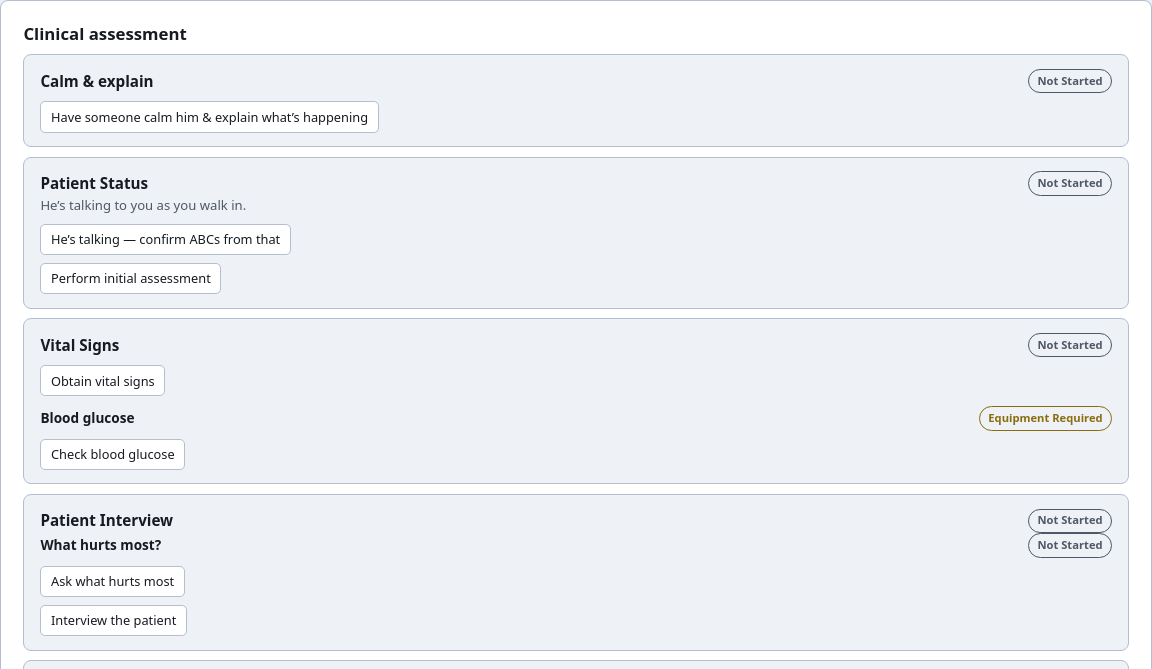
Scenario: ClinicalPanel — lock & hidden findings (§19) › keeps vital signs hidden until the task completes, then reveals them
Expected: the text "148/88" is not shown
Click the button "Obtain vital signs".
click(103, 381)  # box x1=40 y1=365 x2=165 y2=396
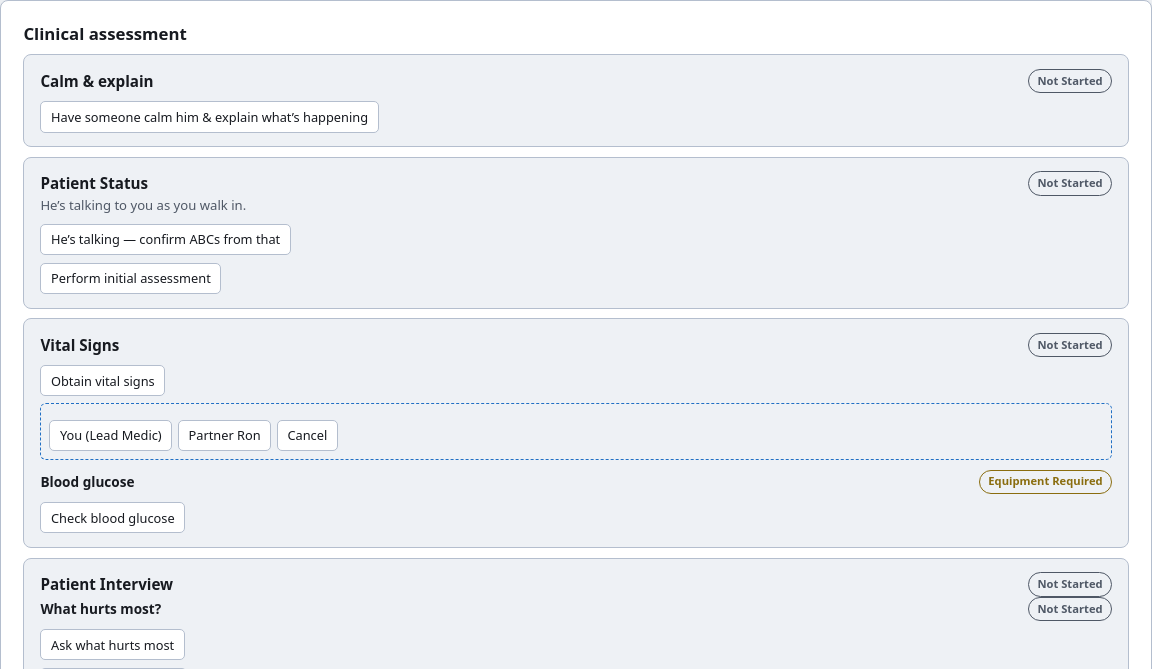
Click the button "Partner Ron".
click(225, 435)  # box x1=178 y1=420 x2=271 y2=451
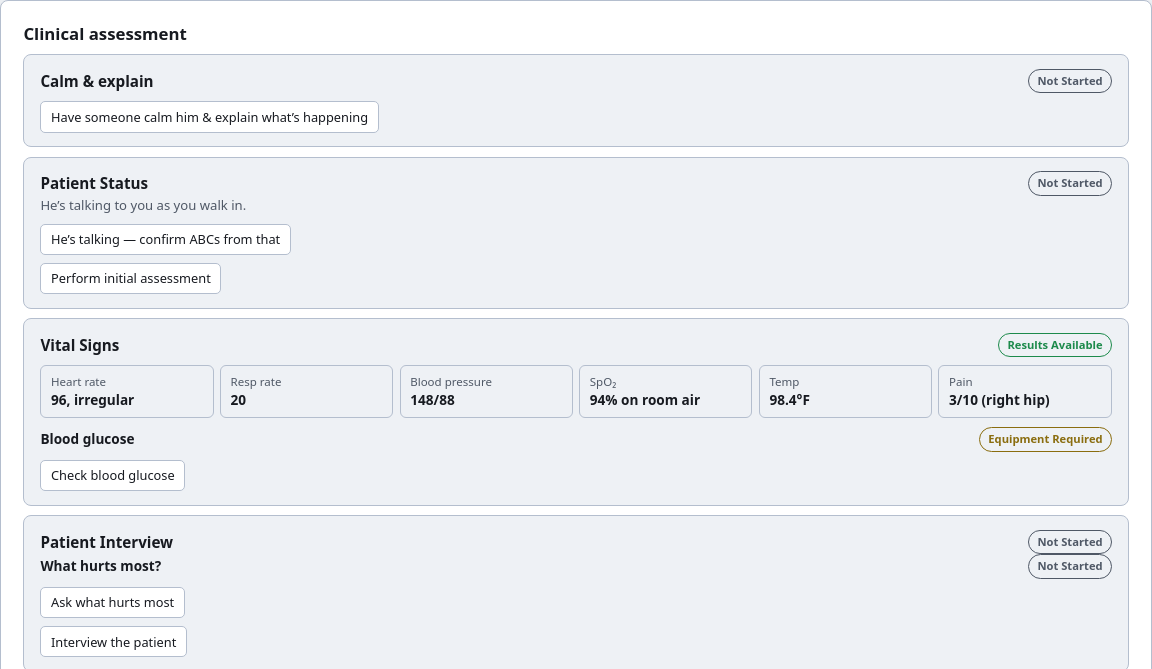
Result: the text "148/88" is shown at x1=410 y1=390 x2=455 y2=409
